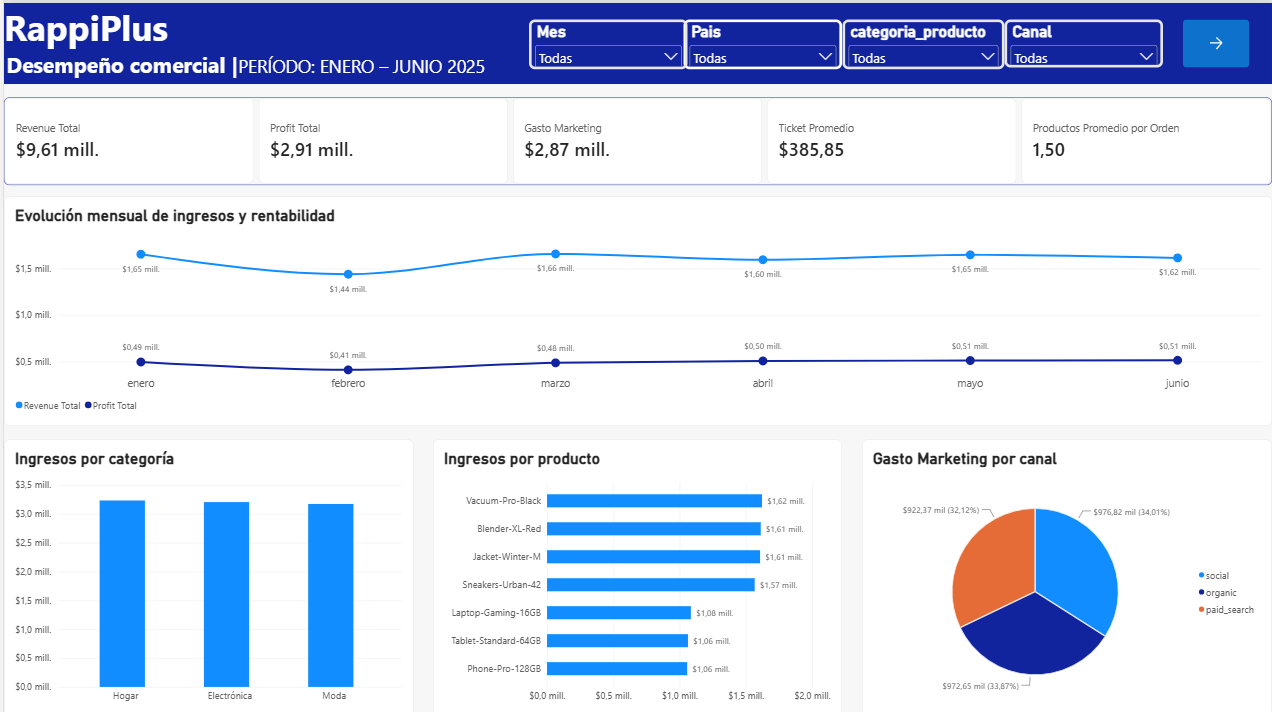

What the dashboard file says about the page in this screenshot:
{"tool":"powerbi","page":{"name":"Overview Ejecutivo","canvas":[1920,1080],"ordinal":0},"visuals":[{"type":"textbox","box":[0,0,1920,122.5],"z":0},{"type":"slicer","fields":{"Values":["orders_clean.categoria_producto"]},"box":[1270,25,245,75],"z":1000},{"type":"slicer","fields":{"Values":["DimCanal.Canal"]},"box":[1515,25,240,72.5],"z":2000},{"type":"slicer","fields":{"Values":["DimPais.Pais"]},"box":[1030,25,240,75],"z":3000},{"type":"slicer","fields":{"Values":["dim_fecha.Mes"]},"box":[795,25,240,75],"z":4000},{"type":"cardVisual","fields":{"Data":["orders_clean.Revenue Total","orders_clean.Profit Total","orders_clean.Gasto Marketing","orders_clean.Ticket Promedio","orders_clean.Productos Promedio por Orden"]},"box":[0,142.5,1920,132.5],"z":5000},{"type":"lineChart","title":"Evolución mensual de ingresos y rentabilidad","fields":{"Category":["dim_fecha.Mes"],"Y":["orders_clean.Revenue Total","orders_clean.Profit Total"]},"box":[0,292.5,1920,347.5],"z":6000},{"type":"columnChart","title":"Ingresos por categoría","fields":{"Category":["orders_clean.categoria_producto"],"Y":["orders_clean.Revenue Total"]},"box":[0,660,620,420],"z":7000},{"type":"barChart","title":"Ingresos por producto","fields":{"Category":["catalog_clean.nombre_producto"],"Y":["orders_clean.Revenue Total"]},"box":[650,660,619.6,419.6],"z":8000},{"type":"pieChart","title":"Gasto Marketing por canal","fields":{"Category":["DimCanal.Canal"],"Y":["orders_clean.Gasto Marketing"]},"box":[1300,660,620,420],"z":9000},{"type":"actionButton","box":[1785,25,100,72.5],"z":10000}]}

Visuals, with their boxes in screenshot pixels (x1, y1, x2, y2), scaled from the page's 1920x1080 canvas onto the 1272x712 screenshot:
textbox: (0,0,1271,81)
slicer - orders_clean.categoria_producto: (841,16,1004,66)
slicer - DimCanal.Canal: (1004,16,1163,64)
slicer - DimPais.Pais: (682,16,841,66)
slicer - dim_fecha.Mes: (527,16,686,66)
cardVisual - orders_clean.Revenue Total x orders_clean.Profit Total: (0,94,1271,181)
"Evolución mensual de ingresos y rentabilidad" lineChart: (0,193,1271,422)
"Ingresos por categoría" columnChart: (0,435,411,711)
"Ingresos por producto" barChart: (431,435,841,711)
"Gasto Marketing por canal" pieChart: (861,435,1271,711)
actionButton: (1183,16,1249,64)
